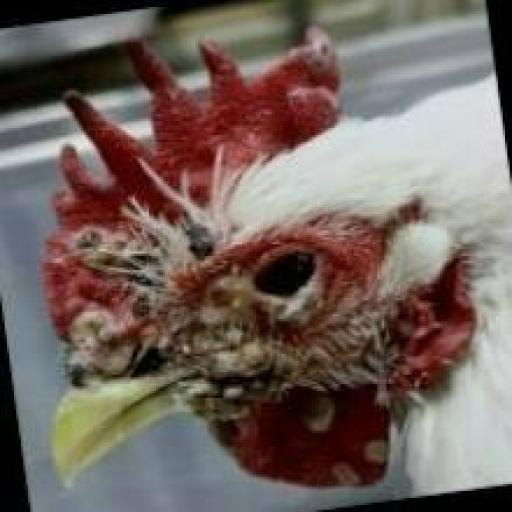disease: (64, 206, 432, 410), (303, 22, 361, 108), (296, 393, 346, 443), (364, 432, 410, 470), (332, 458, 370, 492)
